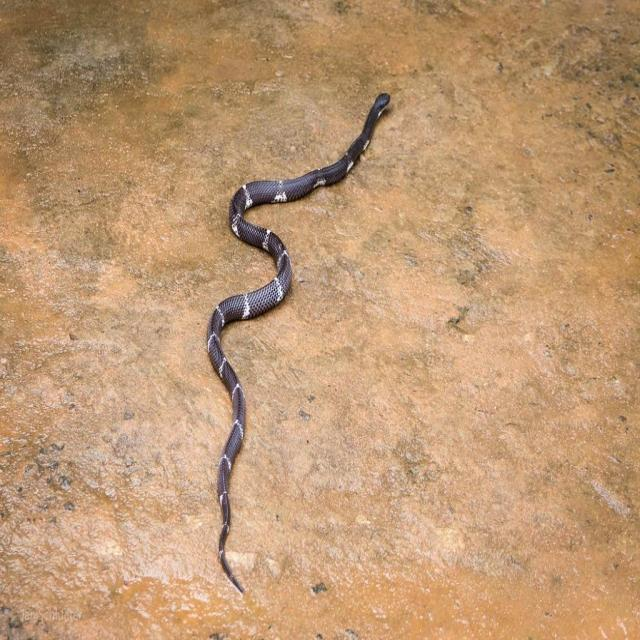Snake: (205, 90, 391, 594)
